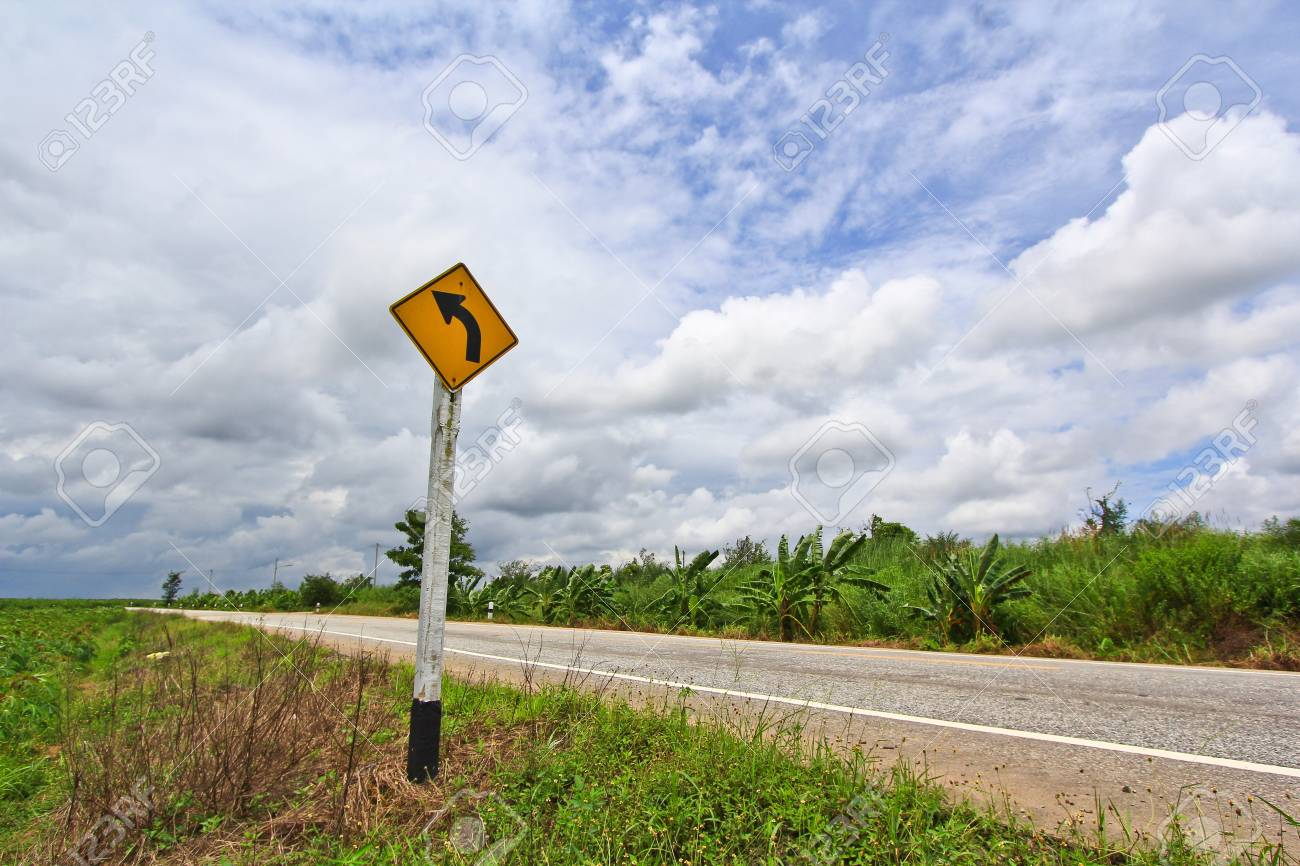left: (388, 258, 523, 392)
